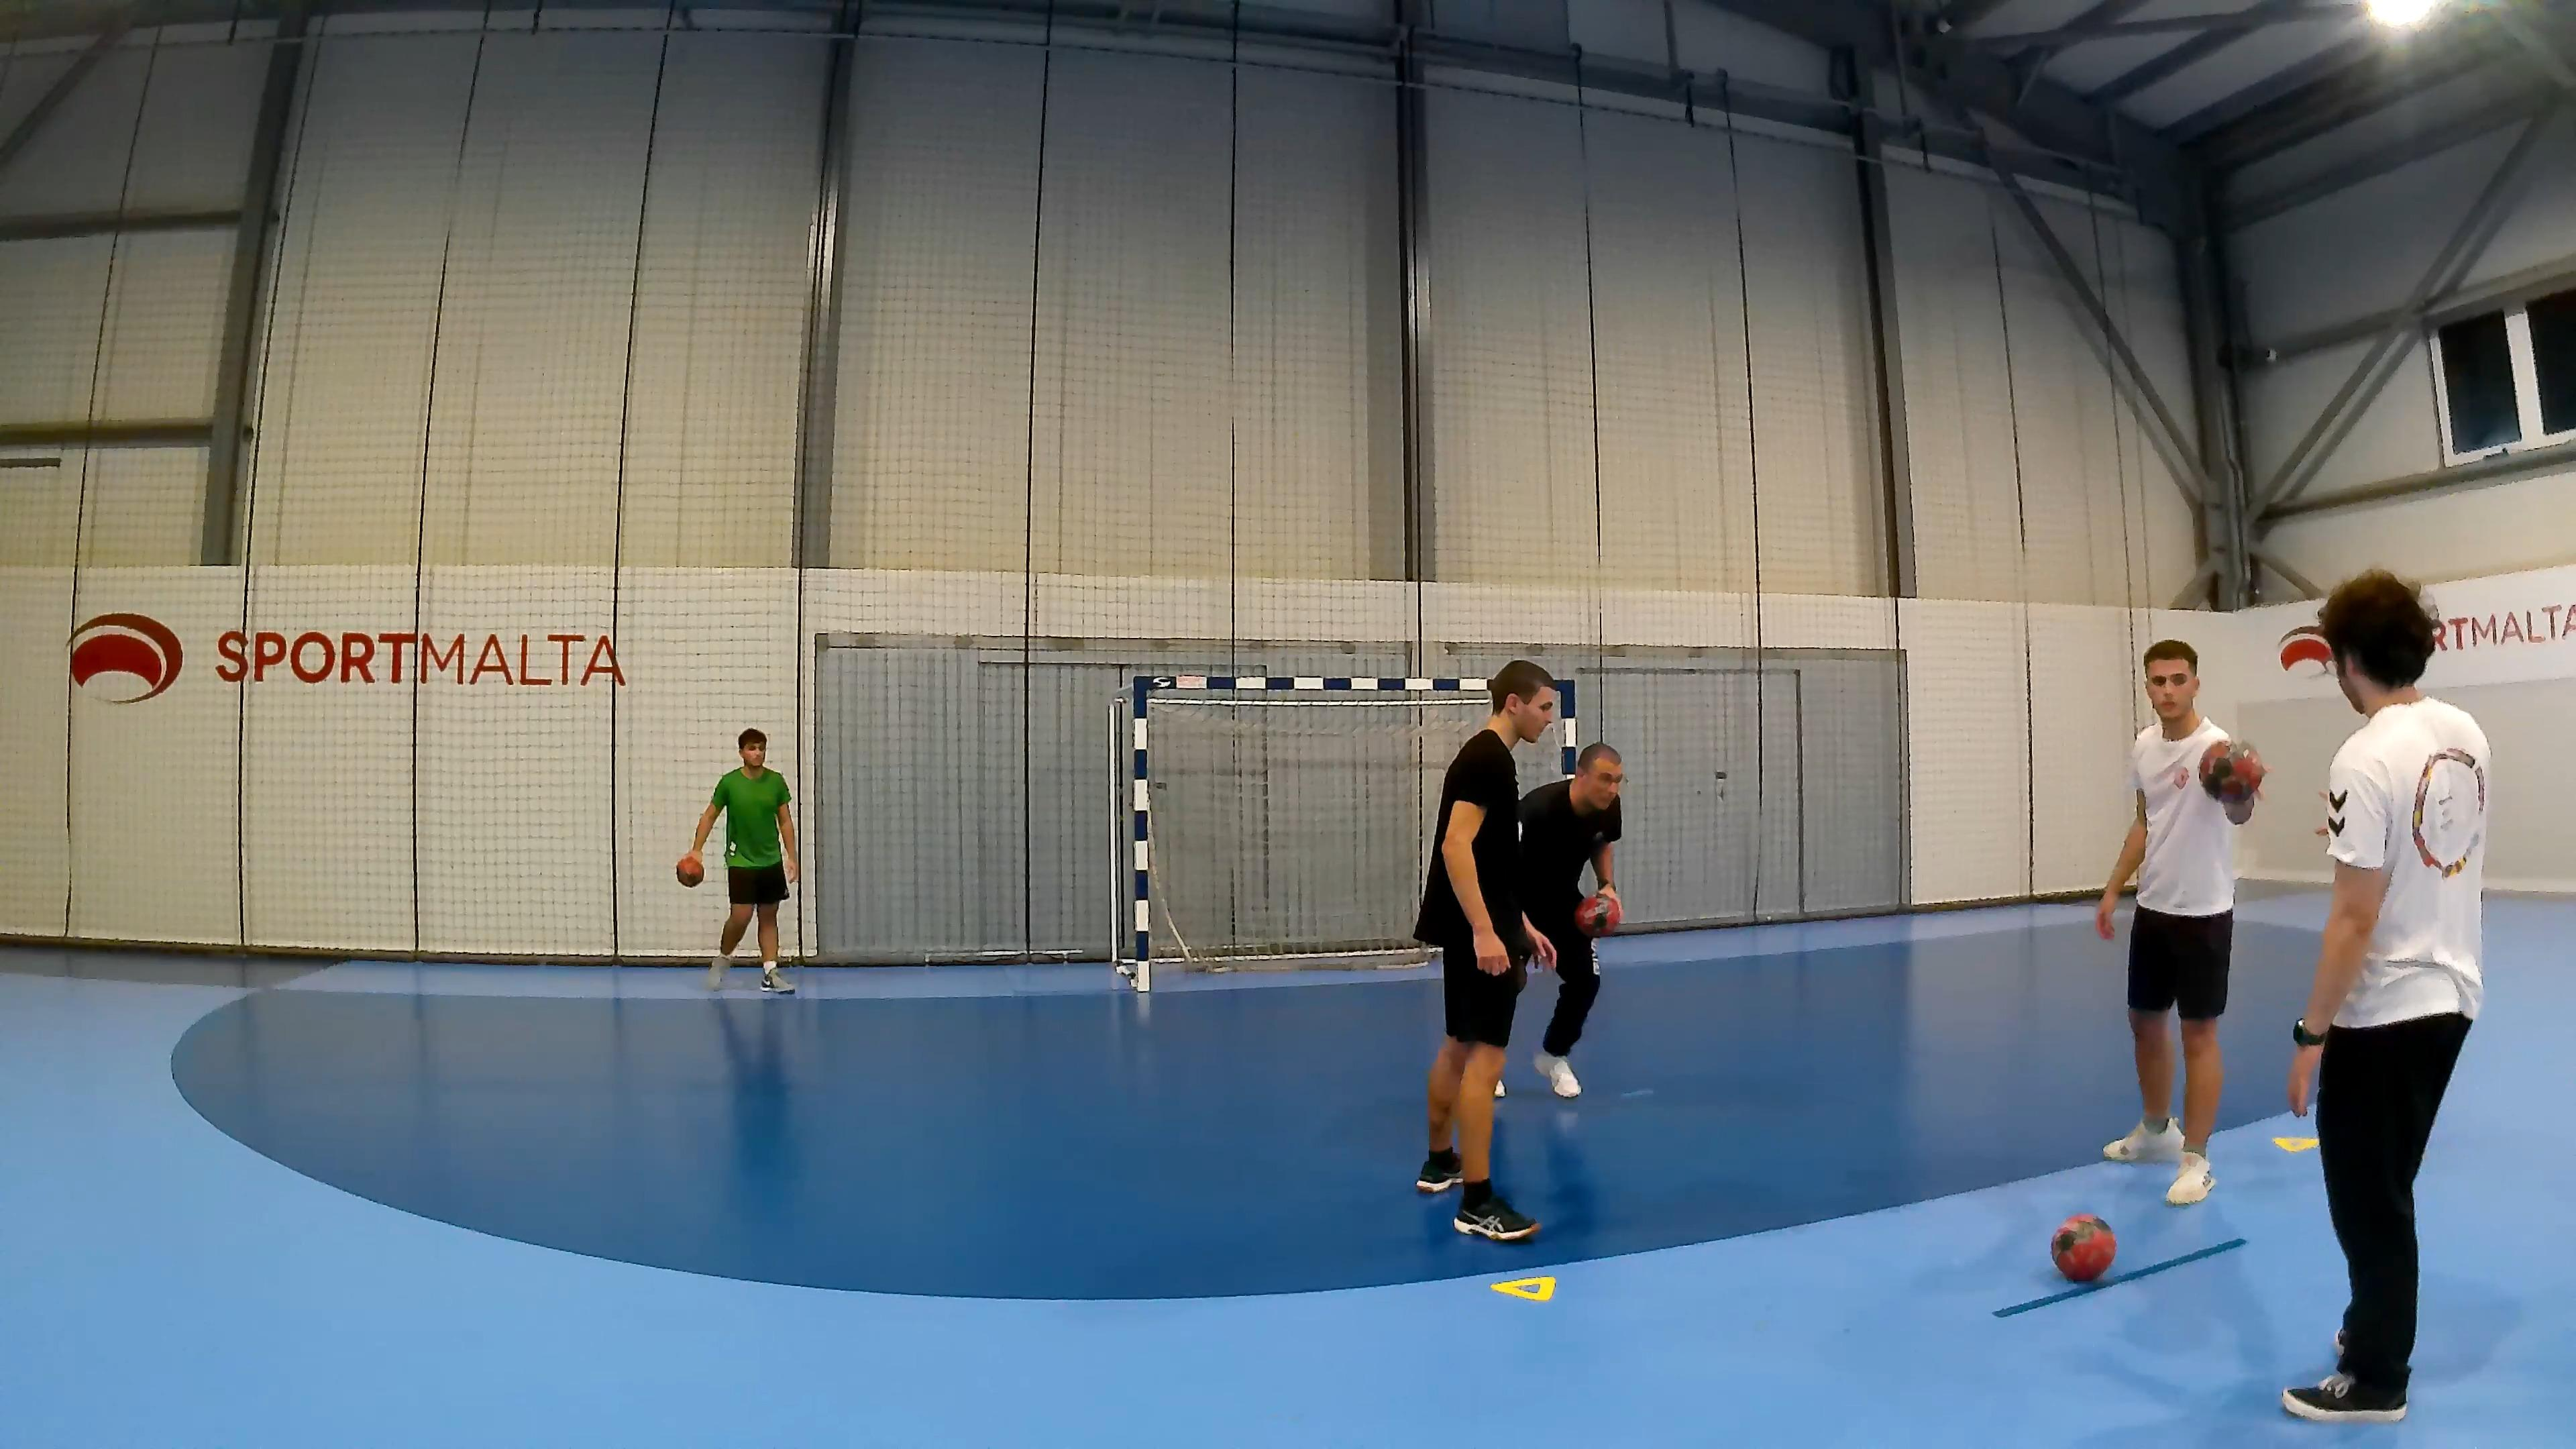handball: (2204, 724, 2265, 810), (2049, 1212, 2116, 1281), (1576, 888, 1626, 952), (674, 853, 702, 886)
